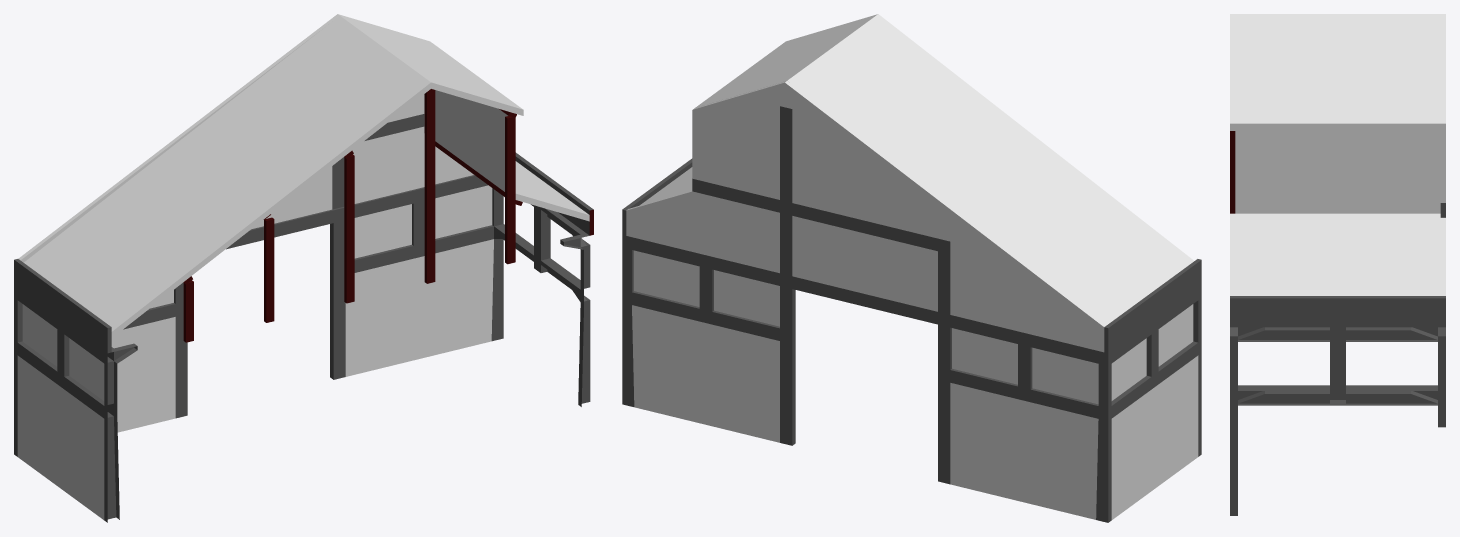
Rendered from SM_Factory_C.fbx.
3 views of the same model, side by side, from view 1: azimuth 30°, elevation 25°; view 2: azimuth 150°, elevation 25°; view 3: azimuth 270°, elevation 25° (orthographic). The views are drawn at different scales.
Parts seen in each view (by area): view 1: Factory_Frame_C, Factory_PillarsAndBeams_C; view 2: Factory_Frame_C, Factory_PillarsAndBeams_C; view 3: Factory_Frame_C, Factory_PillarsAndBeams_C.
Part boxes in pixels (left/top/right/bottom): Factory_Frame_C: left=14, top=14, right=593, bottom=353; Factory_PillarsAndBeams_C: left=14, top=175, right=590, bottom=522; Factory_Frame_C: left=622, top=14, right=1201, bottom=353; Factory_PillarsAndBeams_C: left=622, top=235, right=1201, bottom=522; Factory_Frame_C: left=1230, top=14, right=1445, bottom=327; Factory_PillarsAndBeams_C: left=1230, top=327, right=1445, bottom=515.
Size of the model in its own units: 12 by 4 by 8.53.
